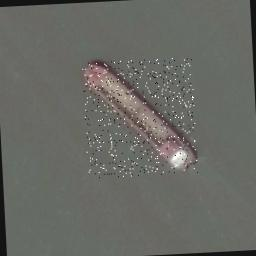boat: (82, 56, 198, 178)
